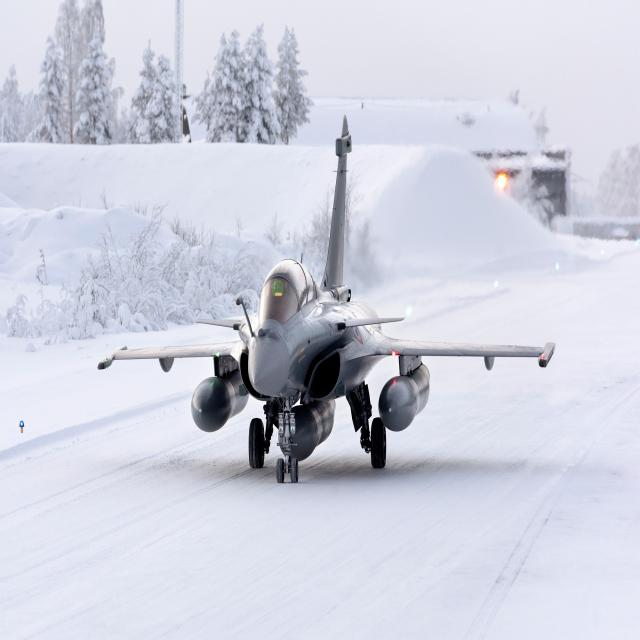MIL_Plane: (98, 114, 555, 483)
